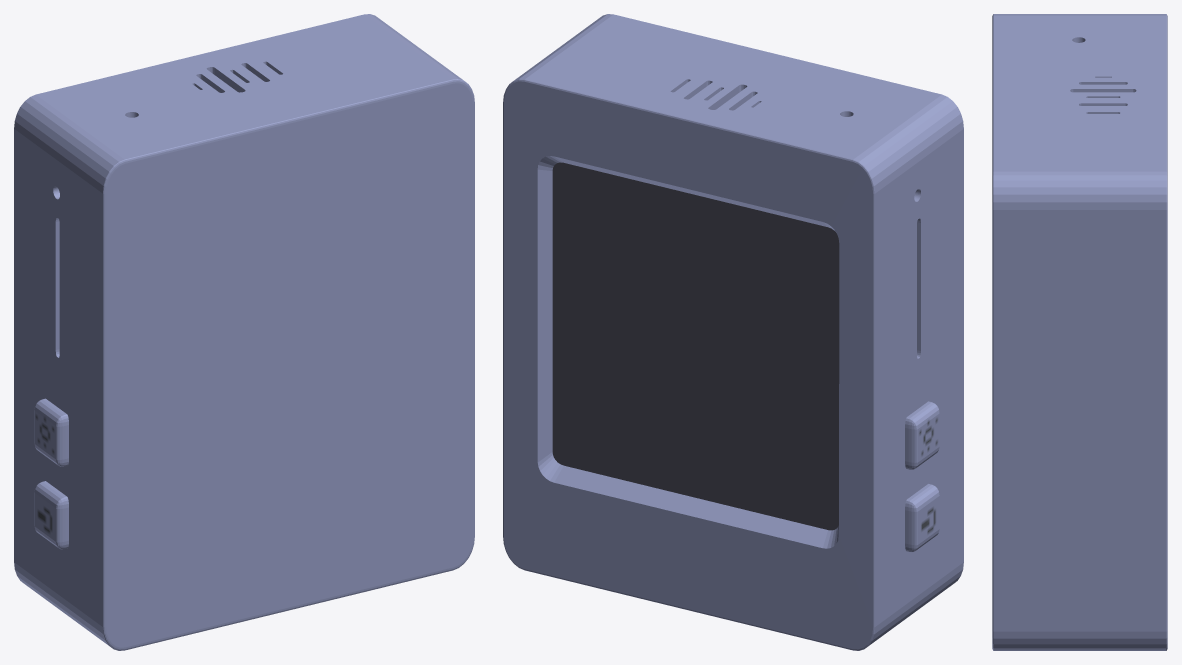
Rendered from WSEPAPER.glb.
3 renders of one model, left to right at view 1: azimuth 30°, elevation 25°; view 2: azimuth 150°, elevation 25°; view 3: azimuth 270°, elevation 25°, orthographic. The views are drawn at different scales.
Parts seen in each view (by area): view 1: MainBoard; view 2: MainBoard; view 3: MainBoard.
Part boxes in pixels (left/top/right/bottom): MainBoard: left=14, top=14, right=474, bottom=650; MainBoard: left=503, top=14, right=963, bottom=650; MainBoard: left=992, top=14, right=1167, bottom=650.
Size of the model in its own units: 1.81 by 2.21 by 0.7369.
2 materials, 1 textured.
